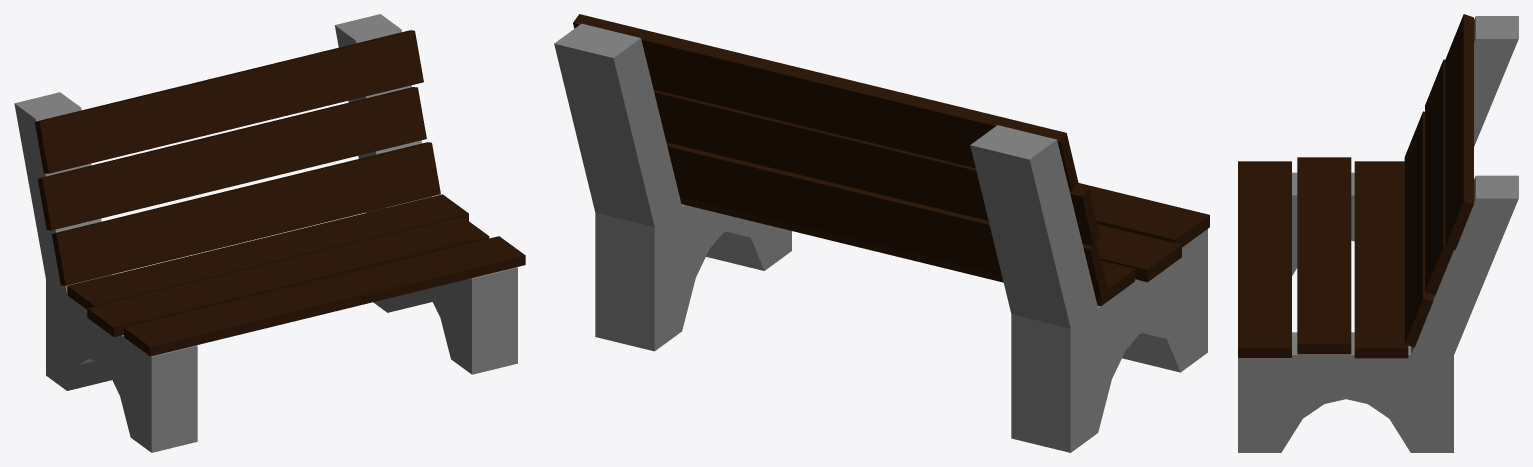
The model's file is bankje.fbx.
3 views of the same model, side by side, from view 1: azimuth 30°, elevation 25°; view 2: azimuth 150°, elevation 25°; view 3: azimuth 270°, elevation 25° (orthographic). The views are drawn at different scales.
Visible parts, largest first — view 1: Cube; view 2: Cube; view 3: Cube.
Boxes of the visible parts, x1,y1,x2,y2 form: Cube: (14, 14, 525, 452); Cube: (554, 14, 1209, 452); Cube: (1238, 14, 1518, 452).
Bounding box in the file's own units: 2 × 1.25 × 1.24.
